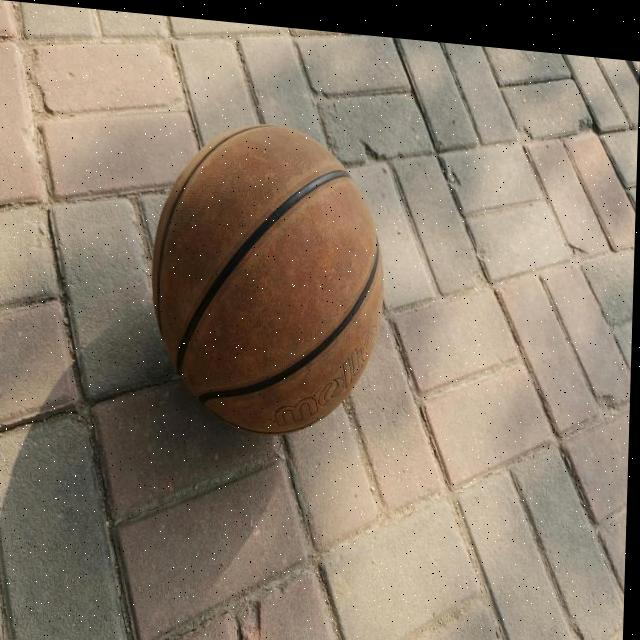Basketball: (149, 117, 387, 449)
